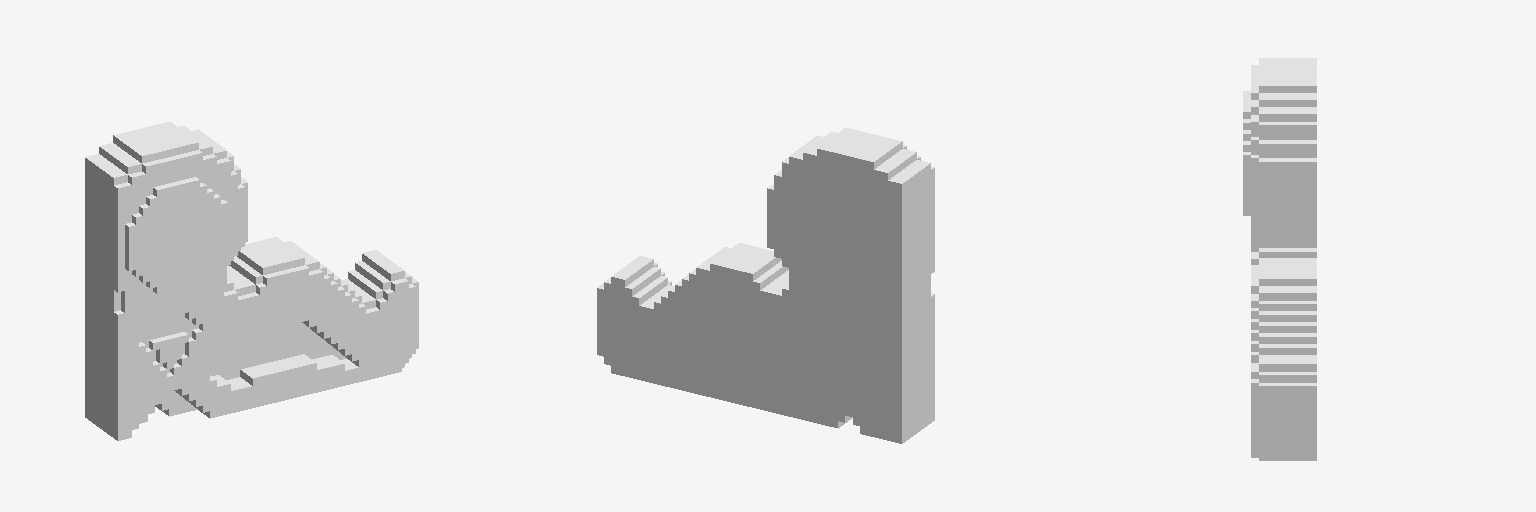
File: goodnight-moon-7-clock.obj
The picture shows the model from 3 angles: view 1: azimuth 30°, elevation 25°; view 2: azimuth 150°, elevation 25°; view 3: azimuth 270°, elevation 25°; orthographic projection.
Visible parts, largest first — view 1: clock; view 2: clock; view 3: clock.
Part boxes in pixels (bbox=[...]): clock: bbox=[85, 122, 418, 440]; clock: bbox=[597, 128, 934, 443]; clock: bbox=[1243, 58, 1316, 460].
Bounding box in the file's own units: 4.3 × 3.7 × 0.9.